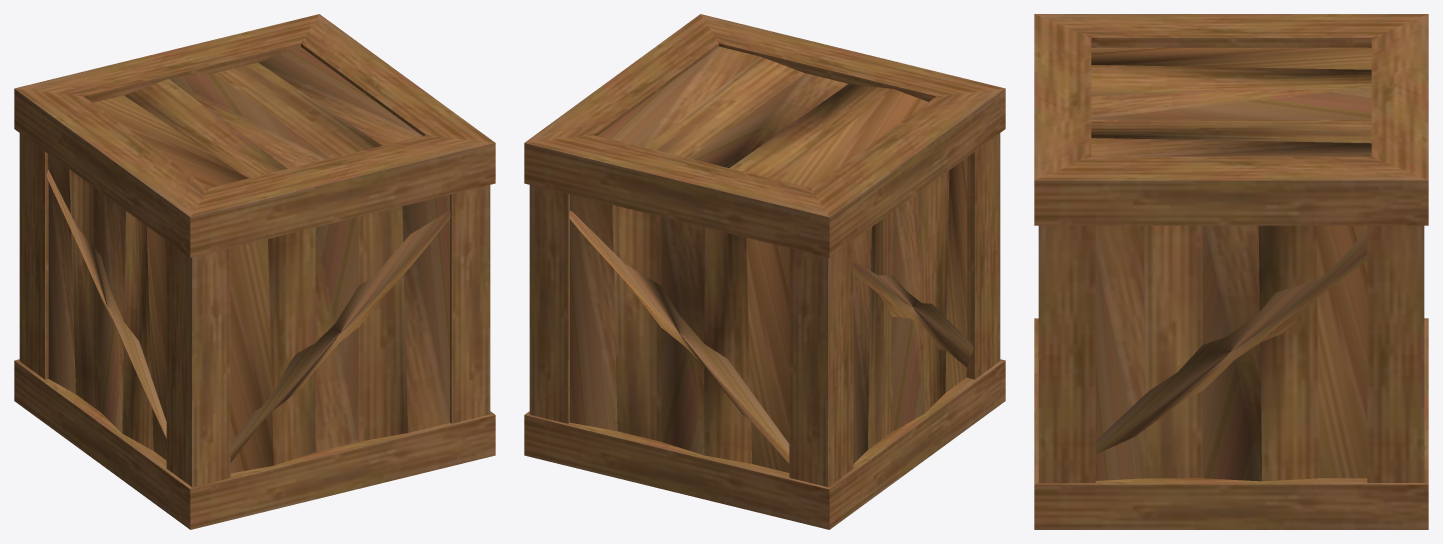
Rendered from Prop_Crate.low.gltf.
The picture shows the model from 3 angles, left to right: view 1: azimuth 30°, elevation 25°; view 2: azimuth 150°, elevation 25°; view 3: azimuth 270°, elevation 25°; orthographic projection. The views are drawn at different scales.
Visible parts, largest first — view 1: Prop_Crate; view 2: Prop_Crate; view 3: Prop_Crate.
Boxes of the visible parts, bbox=[...] form: Prop_Crate: bbox=[14, 14, 495, 529]; Prop_Crate: bbox=[524, 14, 1005, 529]; Prop_Crate: bbox=[1034, 14, 1428, 529].
Bounding box in the file's own units: 1.08 × 1.06 × 1.08.
Materials: 1 (1 with a texture image).
